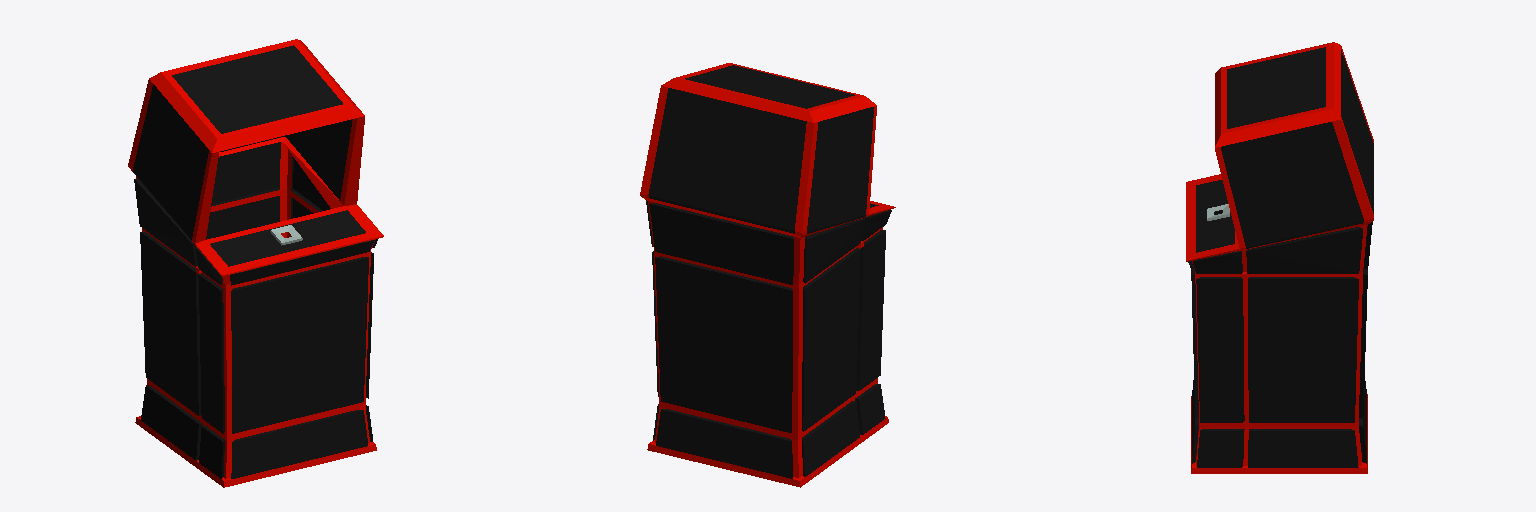
3 views of the same model, side by side, from view 1: azimuth 30°, elevation 25°; view 2: azimuth 150°, elevation 25°; view 3: azimuth 270°, elevation 25° (orthographic).
Parts seen in each view (by area): view 1: Cabinet_Cube.002; view 2: Cabinet_Cube.002; view 3: Cabinet_Cube.002.
Part boxes in pixels (left/top/right/bottom): Cabinet_Cube.002: left=128, top=39, right=383, bottom=487; Cabinet_Cube.002: left=640, top=63, right=895, bottom=487; Cabinet_Cube.002: left=1186, top=42, right=1373, bottom=473.
Bounding box in the file's own units: 2.12 × 4.51 × 2.12.
3 materials, 1 textured.